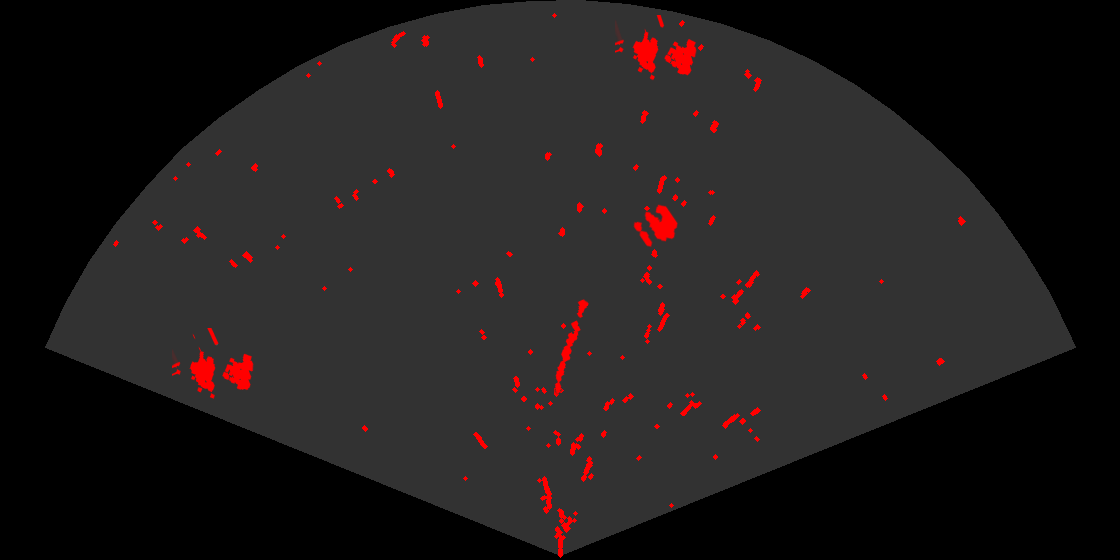ball: (632, 203, 680, 249)
cage: (172, 328, 255, 400), (615, 15, 698, 82)
chain: (553, 298, 590, 395)
